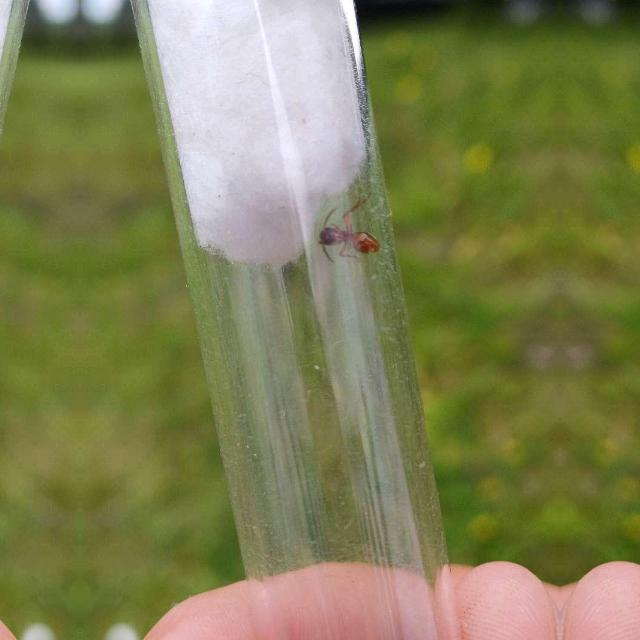Myrmica: (313, 207, 385, 267)
